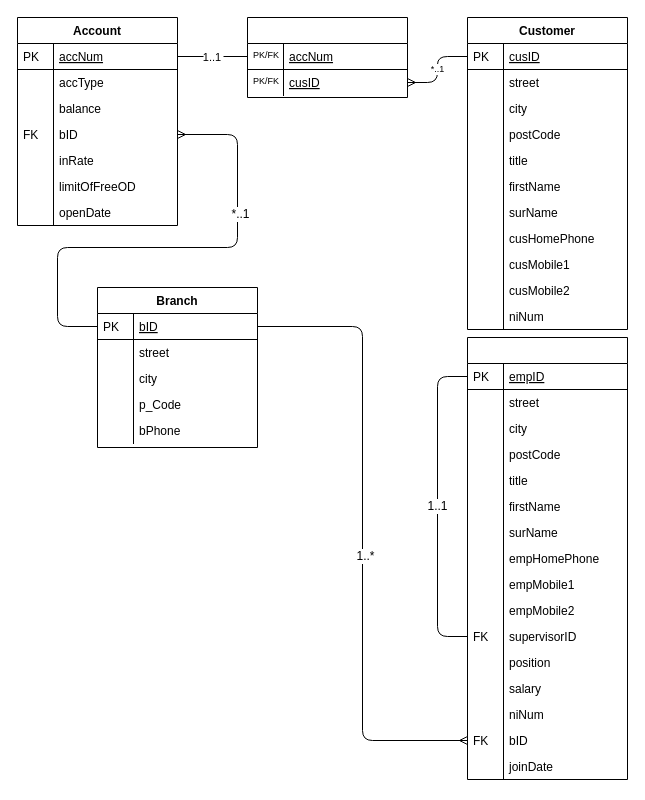
The diagram is 645 pixels wide and 800 high, and some of its shapes have lost their labels. Here are the shapes that lost their labels. From the top down, the box of each, then its label:
(246, 16, 408, 98): CustomerAccount
(466, 336, 628, 780): Employee
